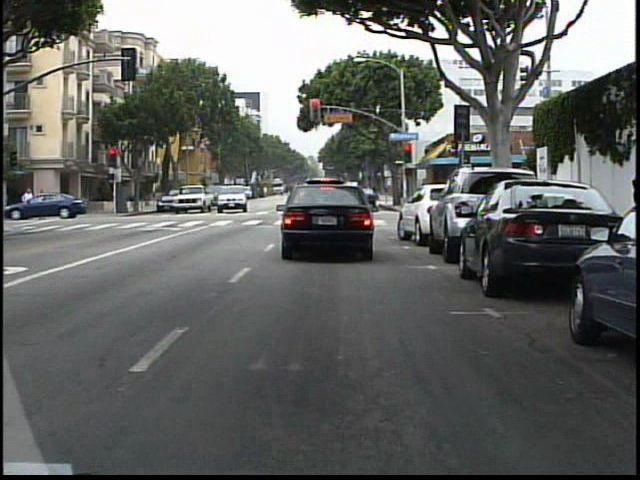person: (35, 187, 52, 222), (22, 185, 37, 202)
